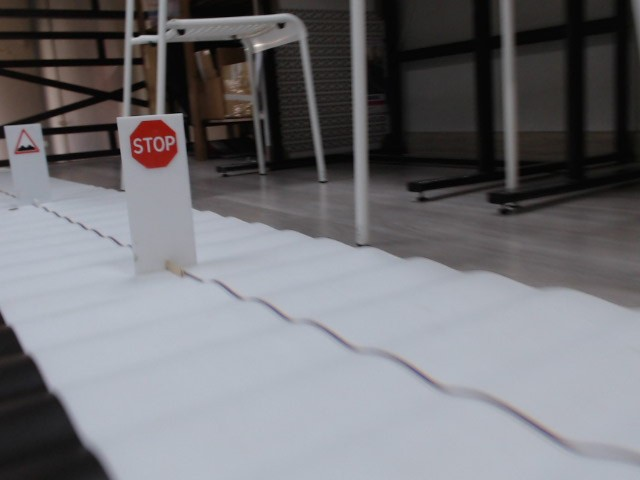Stop: (128, 119, 179, 171)
